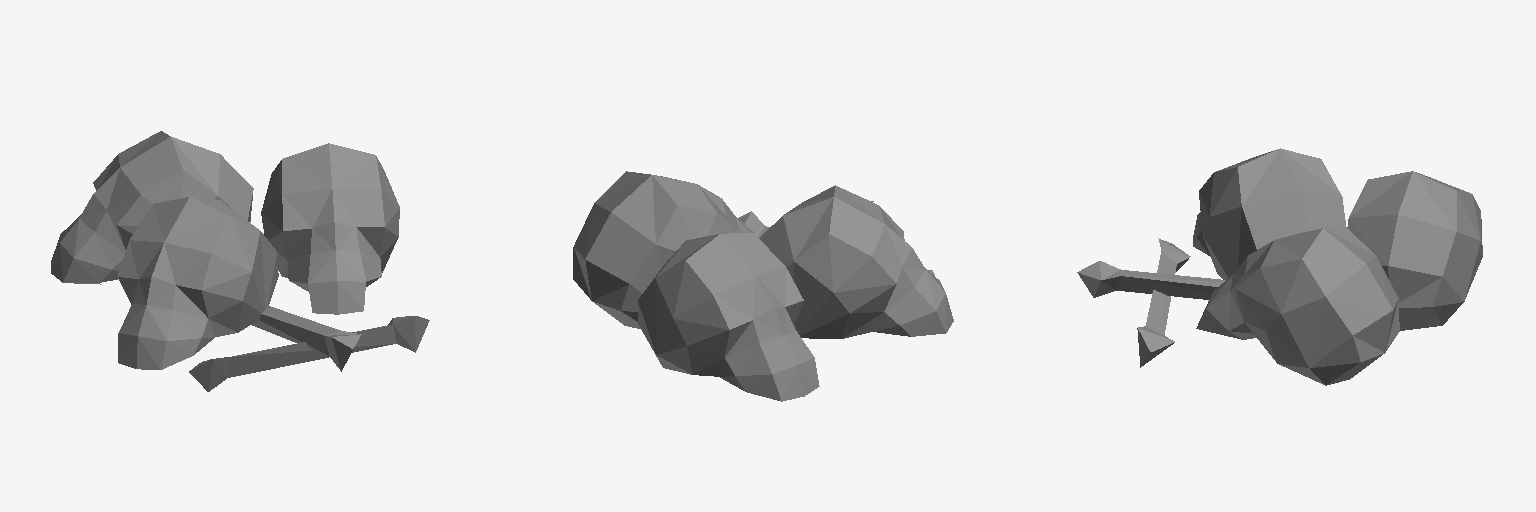
The model's file is skull_08.obj.
3 renders of one model, left to right at view 1: azimuth 30°, elevation 25°; view 2: azimuth 150°, elevation 25°; view 3: azimuth 270°, elevation 25°, orthographic.
Parts seen in each view (by area): view 1: skull_08; view 2: skull_08; view 3: skull_08.
Boxes of the visible parts, box(x1,y1,x2,y2) form: skull_08: box(51, 131, 429, 391); skull_08: box(573, 171, 953, 401); skull_08: box(1077, 148, 1482, 385).
Bounding box in the file's own units: 68.79 × 31.46 × 76.48.